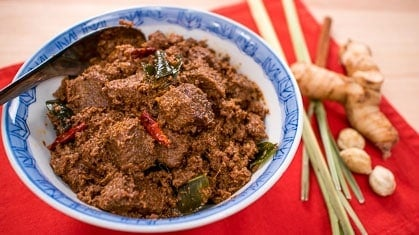rendang: (52, 45, 252, 207)
